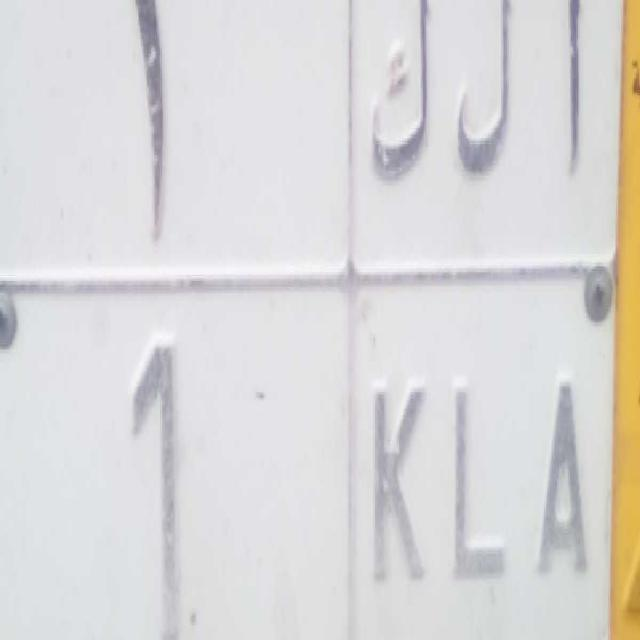license_plate: (0, 266, 615, 640)
